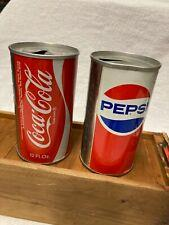metal: (81, 51, 161, 176), (9, 43, 79, 164)
